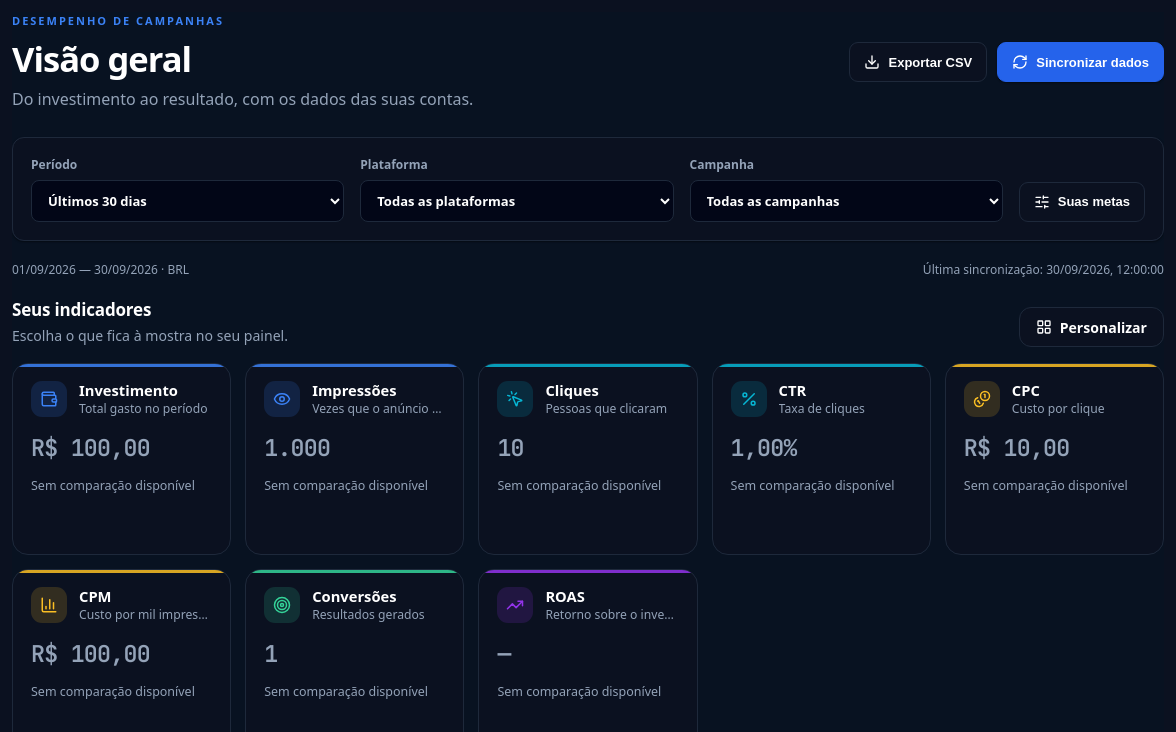
Scenario: metas na análise completa › abre o formulário com o mesmo nome e os mesmos rótulos da Visão geral
This screenshot has width=1176, height=732.
Click the button "Suas metas".
click(1082, 202)  # box [1019,182,1145,222]
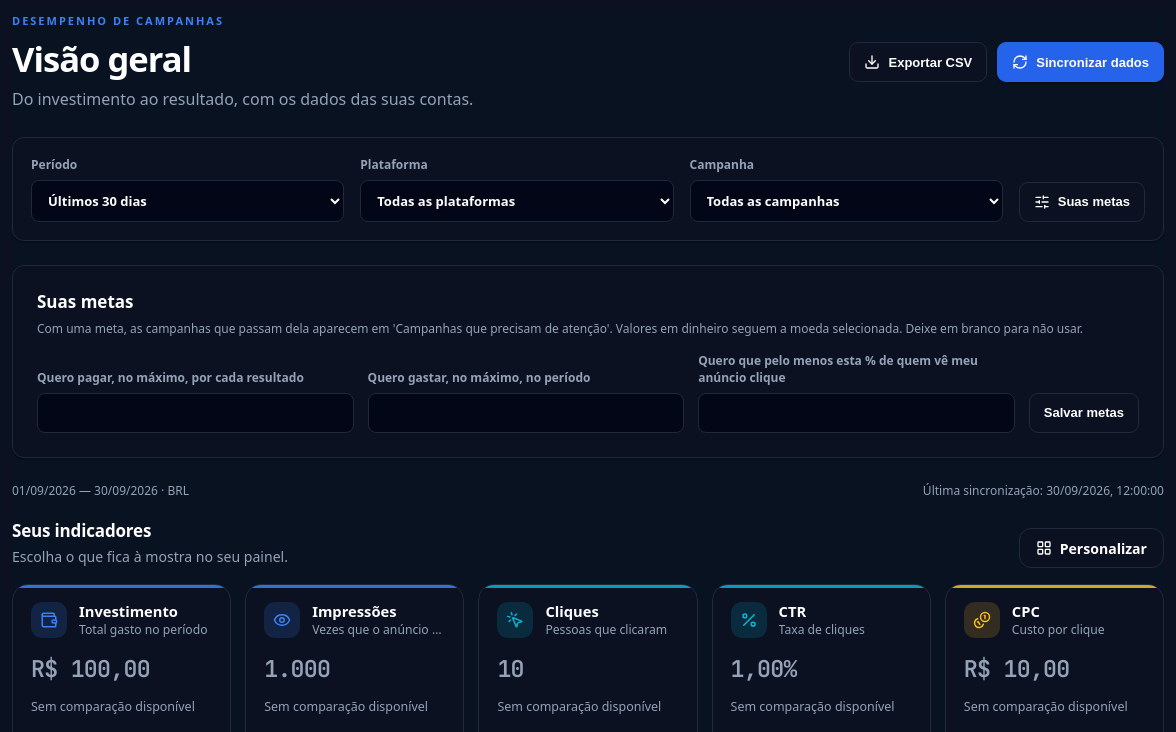
Expected: the heading "Suas metas" is shown, [37,290,134,313]
Expected: the number field labelled "Quero pagar, no máximo, por cada resultado" is shown, [37,393,354,433]
Expected: the number field labelled "Quero gastar, no máximo, no período" is shown, [368,393,684,433]
